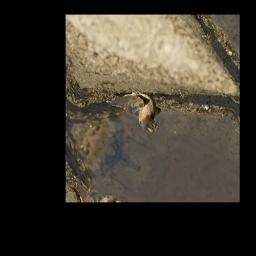Swallow: (106, 75, 168, 137)
